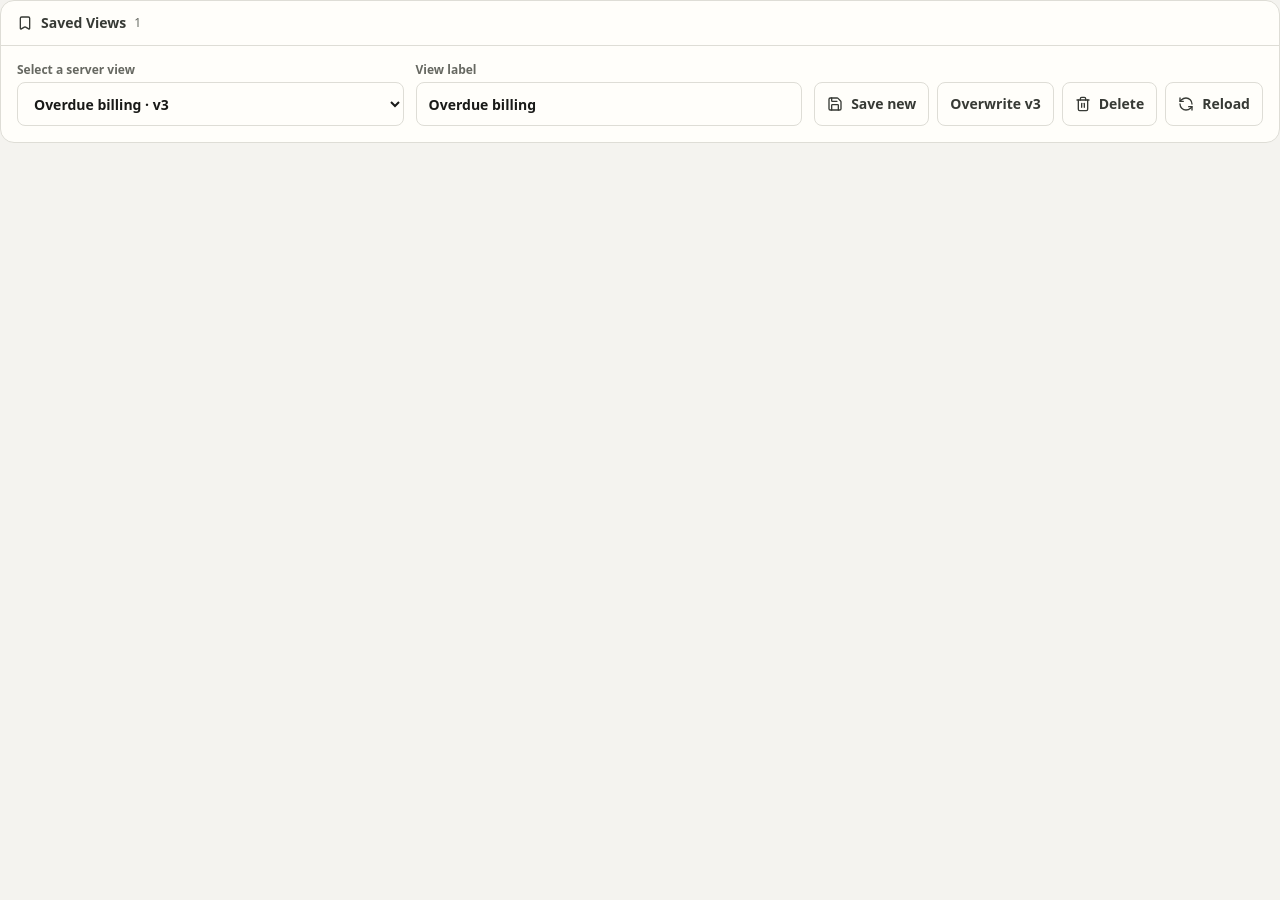
Scenario: collaboration write safety › requires a confirmation before overwriting the operator's Saved View
Click the button "Overwrite v3": (996, 104) [937,82,1054,126]
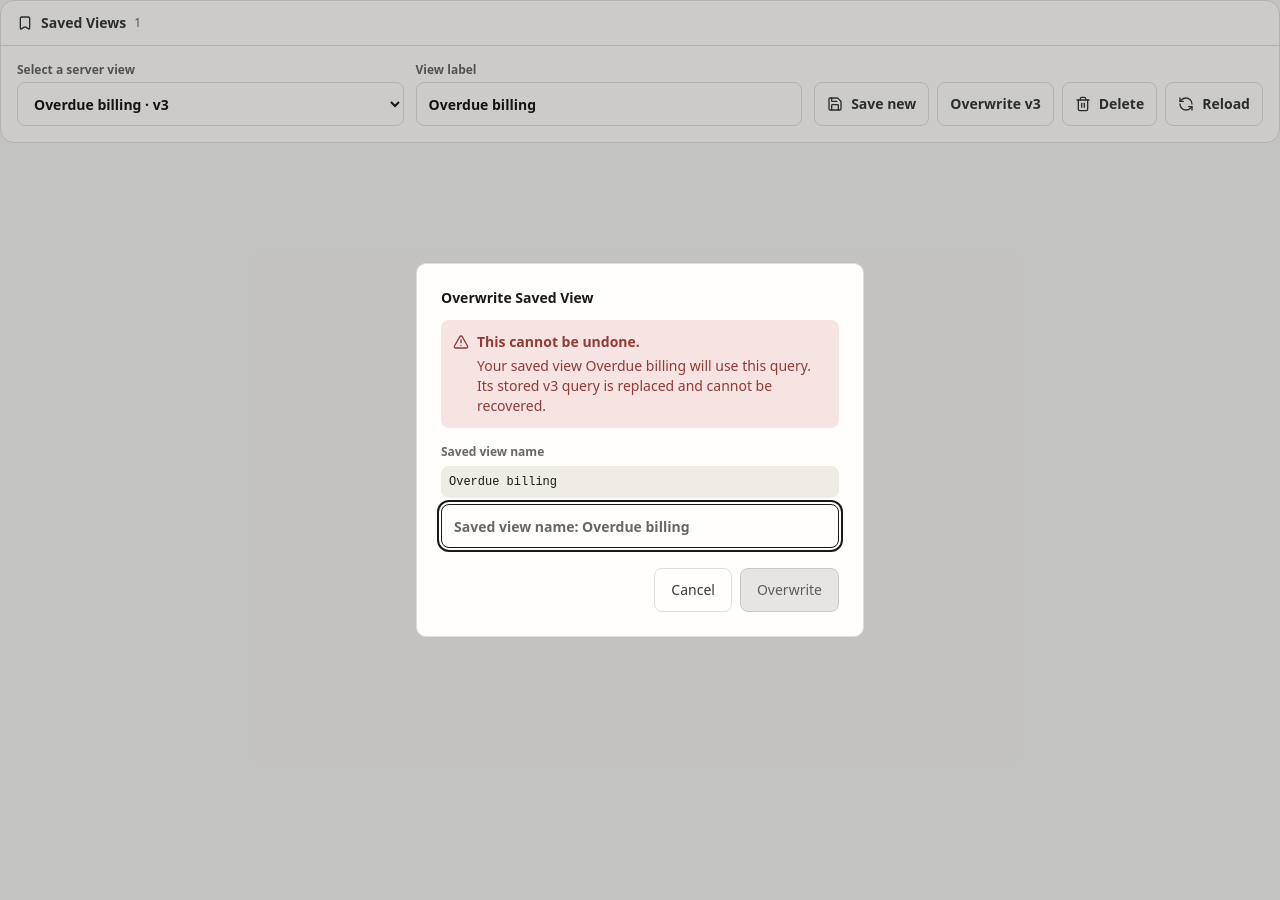
Result: the dialog shows "Overwrite Saved View" at [441,288,594,307]
Result: the dialog shows "Overdue billing" at [449,475,557,489]
Result: the dialog shows "This cannot be undone." at [477,332,640,351]
